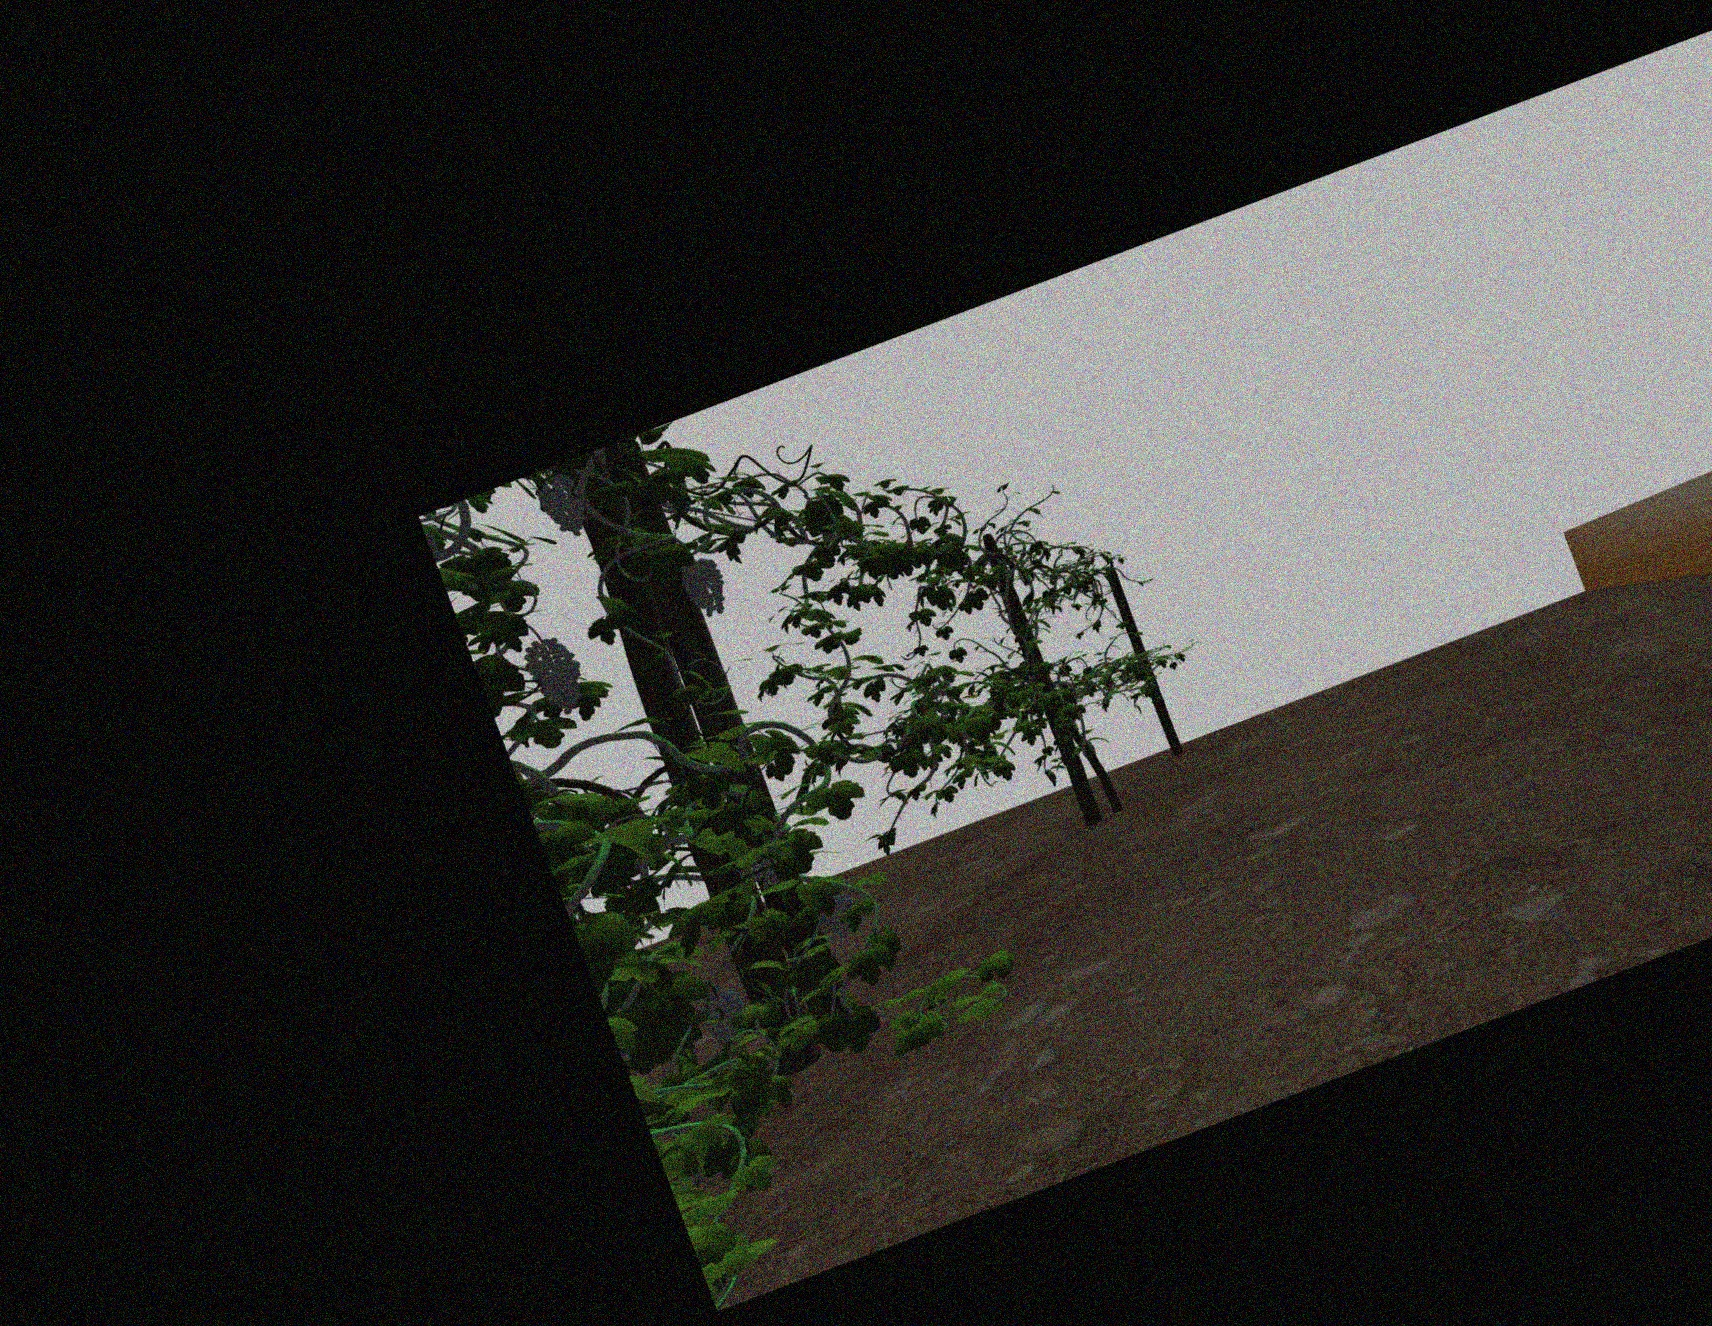grape: (532, 637, 581, 714), (541, 473, 586, 537), (702, 991, 746, 1045), (684, 560, 725, 616), (821, 894, 857, 935)
